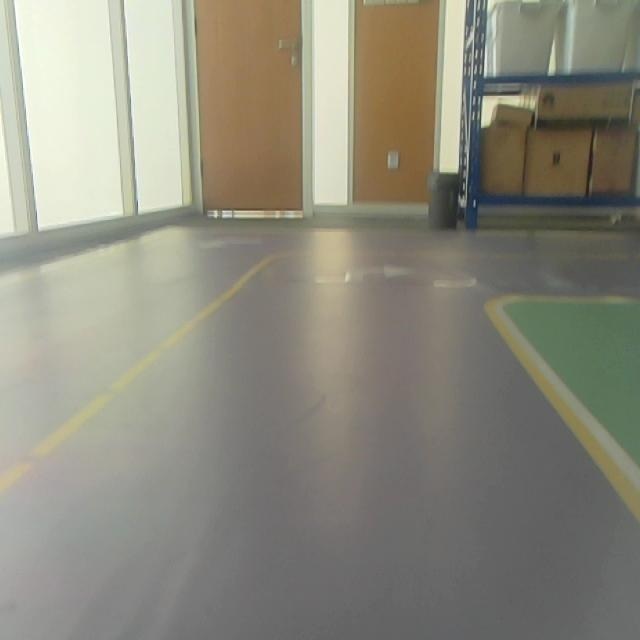left_lane: (0, 257, 272, 491)
right_lane: (491, 312, 640, 525)
